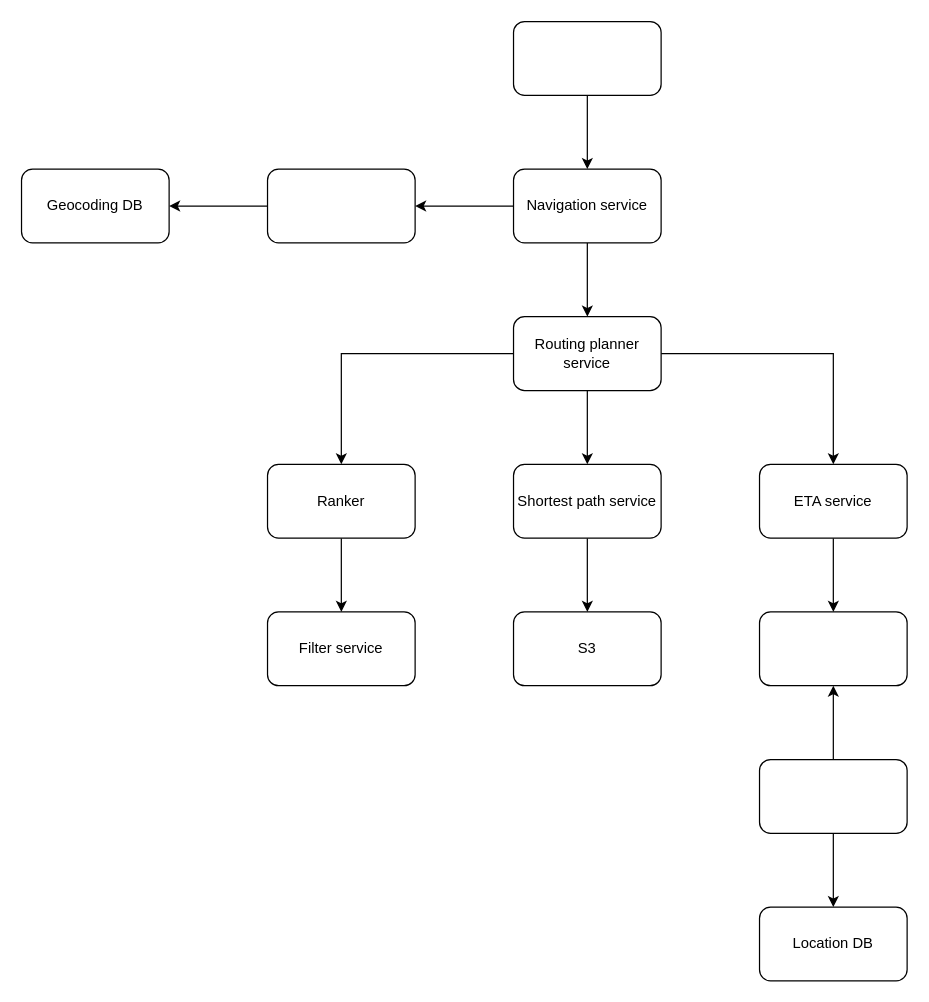
The diagram is 929 pixels wide and 1002 high, and some of its shapes have lost their labels. The centre of each missing label's shape, as x and y in pixels:
"Geocoding service" goes at (340,205).
"Traffic DB" goes at (832,648).
"Traffic update service" goes at (832,795).
"User" goes at (586,57).
